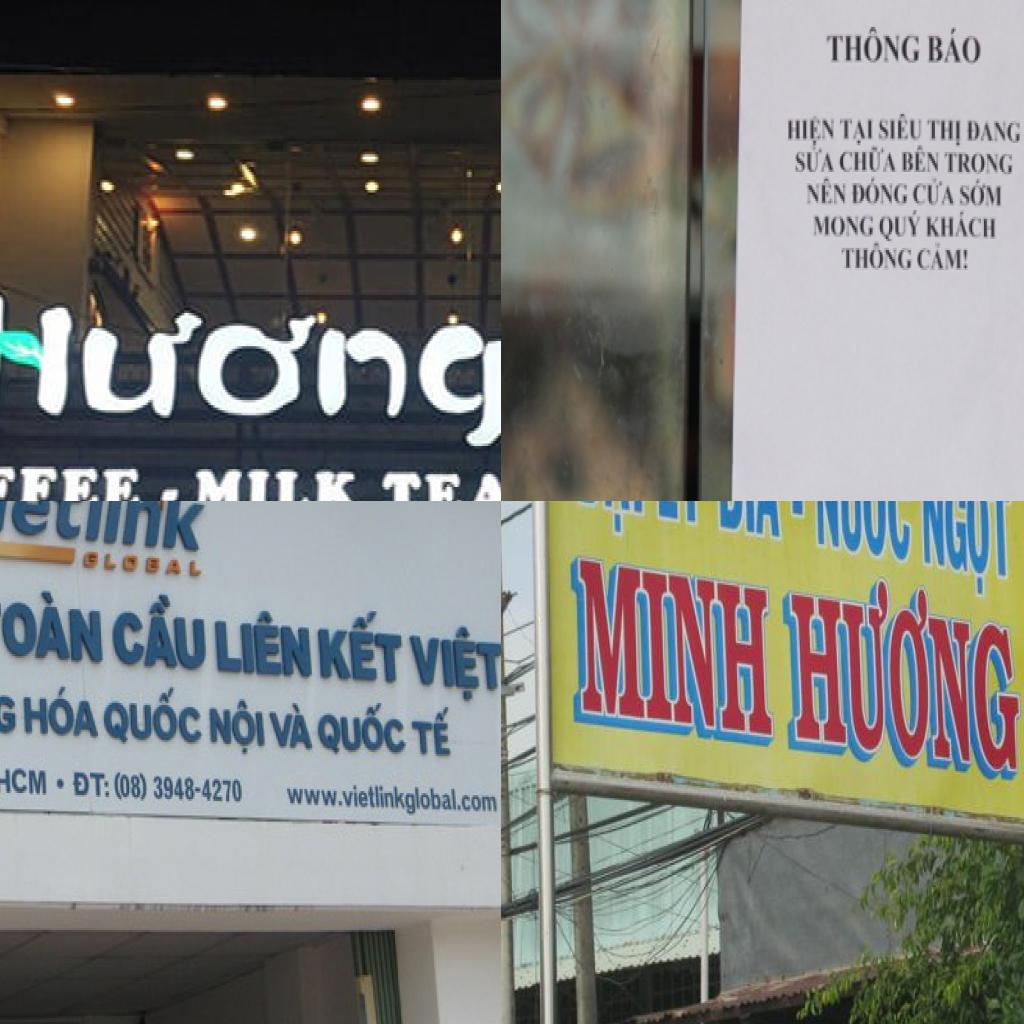text: (0, 279, 501, 456), (782, 564, 1024, 791), (568, 547, 776, 754), (0, 501, 225, 558), (0, 580, 107, 672), (919, 501, 1013, 603), (106, 586, 212, 676), (315, 601, 411, 691), (212, 603, 317, 685), (401, 623, 501, 707), (279, 782, 501, 819), (184, 459, 363, 501), (0, 453, 144, 501), (810, 501, 912, 568), (98, 685, 204, 748), (312, 699, 411, 758), (114, 768, 251, 810), (18, 682, 106, 742), (380, 464, 501, 501), (204, 693, 268, 762), (80, 548, 206, 582), (825, 25, 922, 67), (406, 703, 459, 764), (569, 501, 648, 539), (267, 701, 318, 754), (715, 501, 784, 539), (926, 27, 984, 69), (839, 241, 914, 272), (924, 210, 998, 241), (654, 501, 714, 537), (943, 150, 1015, 178), (849, 176, 910, 208), (0, 764, 51, 801), (837, 146, 899, 176), (916, 241, 970, 275), (67, 766, 115, 804), (878, 208, 924, 246), (786, 114, 838, 147), (966, 118, 1023, 148), (813, 214, 876, 241), (913, 176, 959, 210), (959, 176, 1005, 210), (877, 112, 925, 143), (899, 143, 941, 176), (806, 176, 847, 208), (794, 146, 837, 176), (926, 116, 963, 150), (840, 116, 876, 148), (156, 474, 184, 501), (787, 501, 809, 522)
